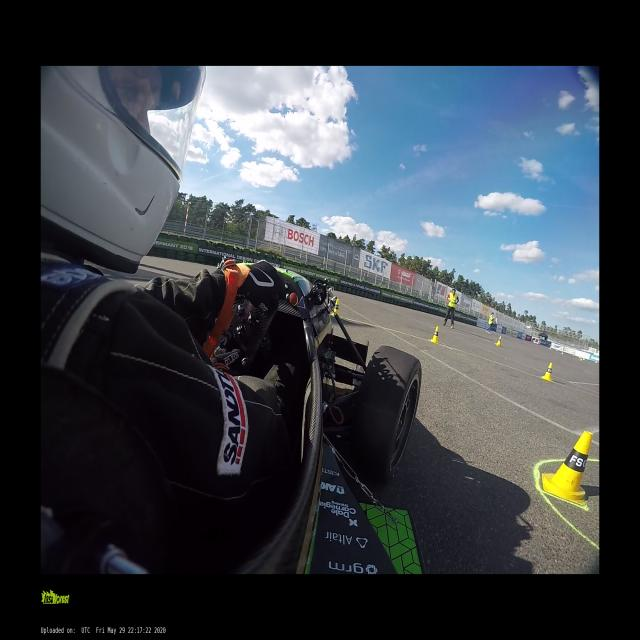yellow_cone: (542, 432, 595, 506), (542, 362, 553, 382), (431, 326, 439, 344), (332, 299, 339, 316), (495, 336, 502, 346), (561, 351, 564, 355), (580, 358, 582, 361)
